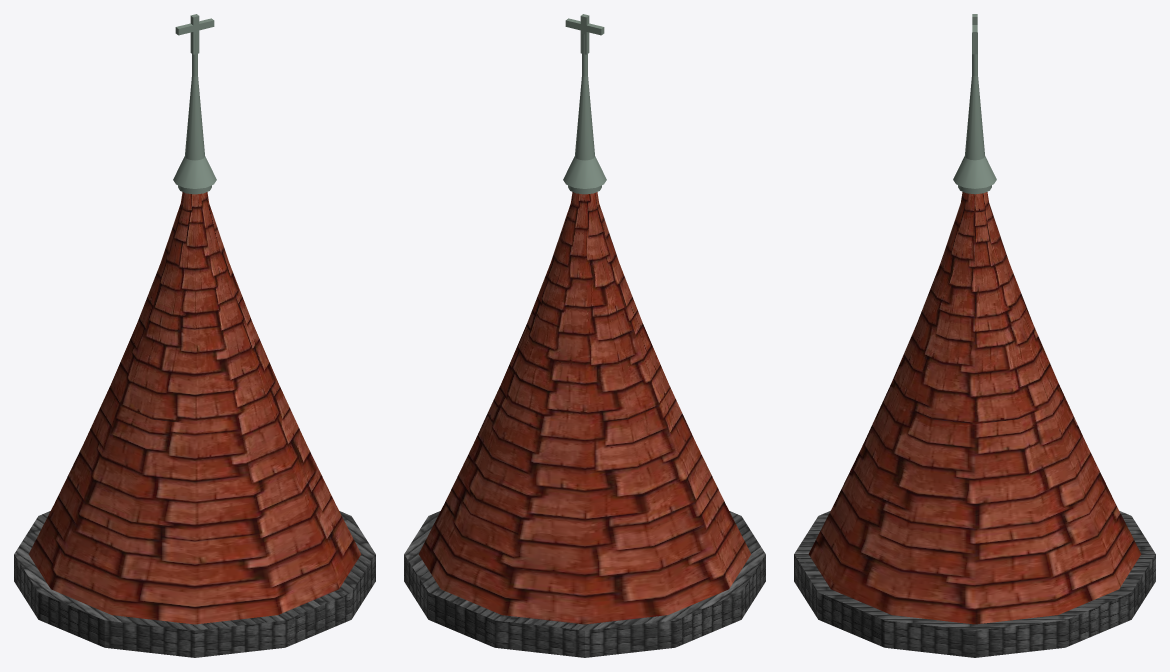
The model's file is spire.glb.
The picture shows the model from 3 angles, left to right: view 1: azimuth 30°, elevation 25°; view 2: azimuth 150°, elevation 25°; view 3: azimuth 270°, elevation 25°; orthographic projection.
Visible parts, largest first — view 1: Roof_Tile_Spire_Object; view 2: Roof_Tile_Spire_Object; view 3: Roof_Tile_Spire_Object.
Boxes of the visible parts, x1,y1,x2,y2 form: Roof_Tile_Spire_Object: (14,14,375,657); Roof_Tile_Spire_Object: (404,14,765,657); Roof_Tile_Spire_Object: (794,14,1155,657).
Bounding box in the file's own units: 2.64 × 4.55 × 2.64.
3 materials, 2 textured.
